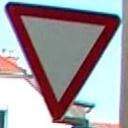preferencia: (4, 0, 123, 122)
